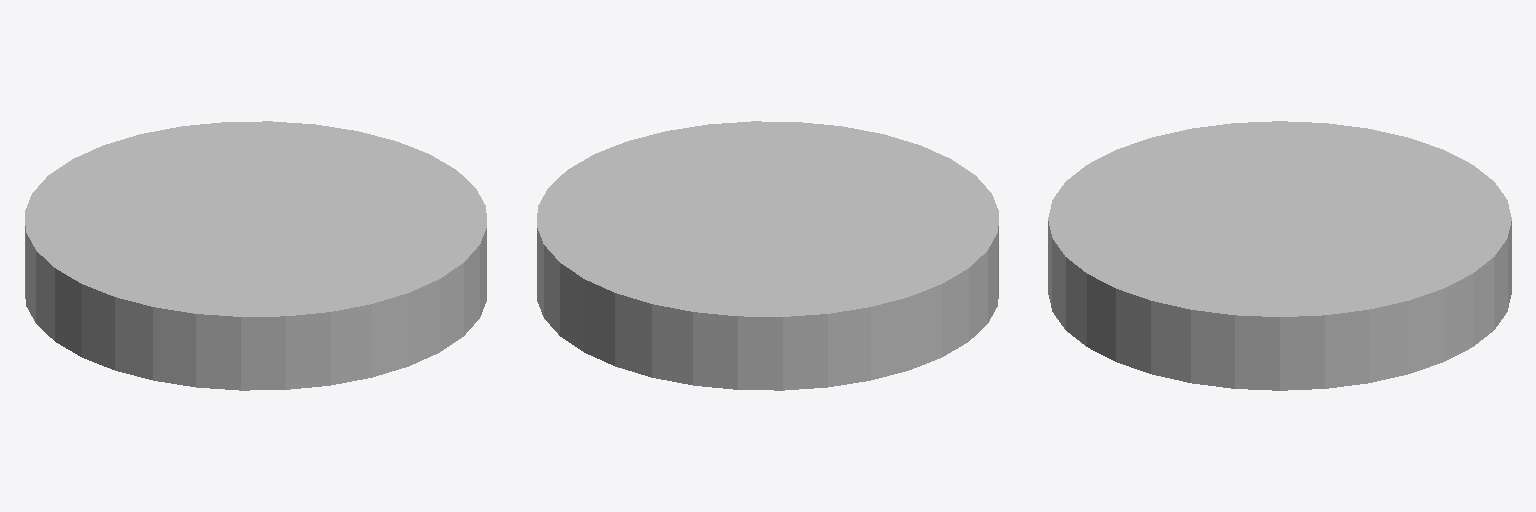
File: grass_colide.obj
3 views of the same model, side by side, from view 1: azimuth 30°, elevation 25°; view 2: azimuth 150°, elevation 25°; view 3: azimuth 270°, elevation 25° (orthographic).
Visible parts, largest first — view 1: Cylinder.001; view 2: Cylinder.001; view 3: Cylinder.001.
Part boxes in pixels (x1,y1,x2,y2): Cylinder.001: (25,121,486,390); Cylinder.001: (537,121,998,390); Cylinder.001: (1048,121,1511,390).
Bounding box in the file's own units: 0.9186 × 0.1607 × 0.9186.